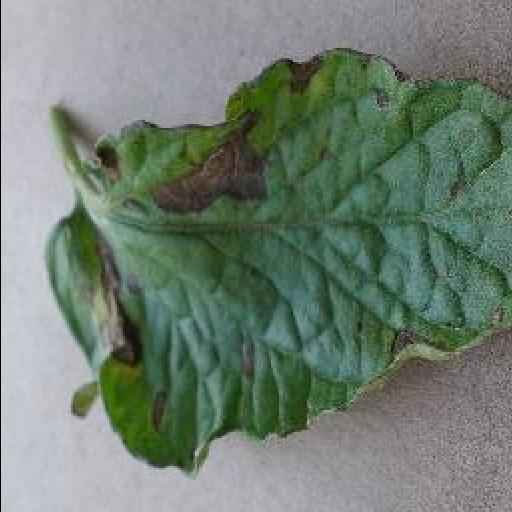Early Blight: (44, 46, 512, 470)
